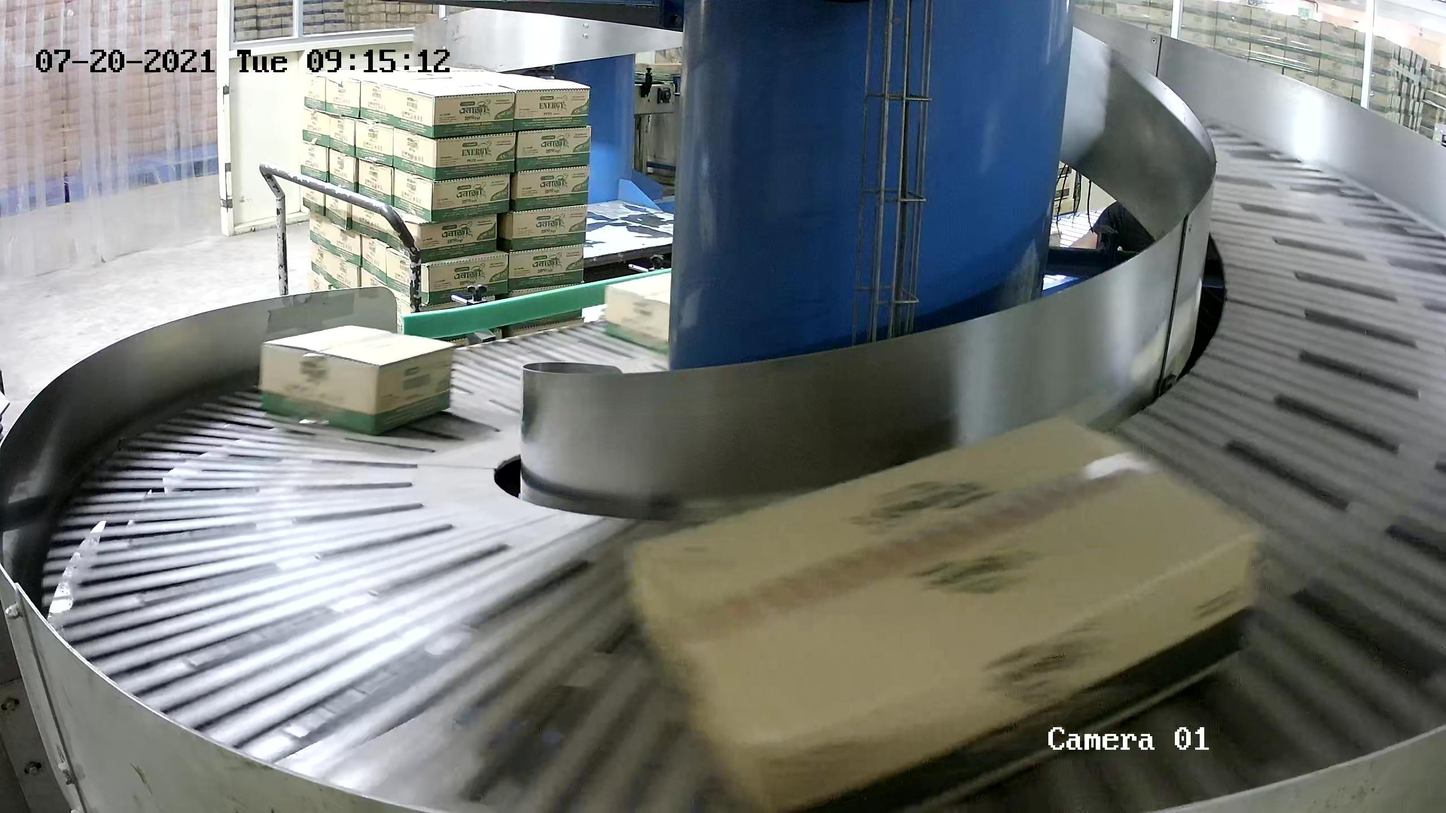Box: (620, 411, 1269, 813), (258, 324, 455, 436), (603, 272, 671, 353)
